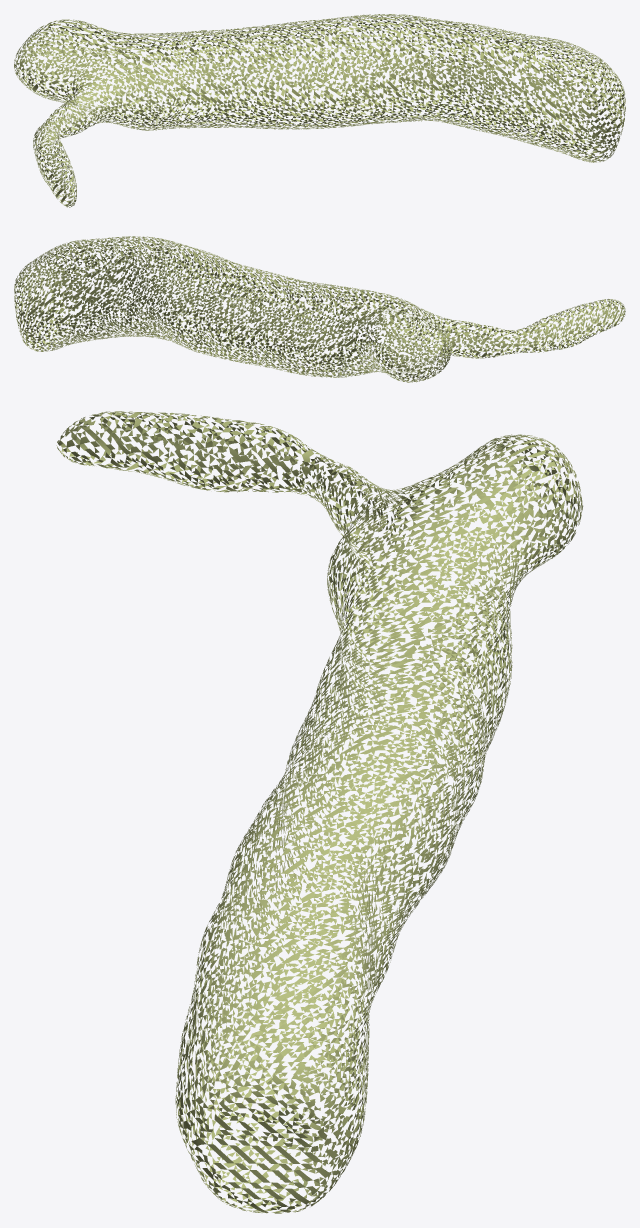
The model's file is morph_010.glb.
3 renders of one model, top to bottom at view 1: azimuth 30°, elevation 25°; view 2: azimuth 150°, elevation 25°; view 3: azimuth 270°, elevation 25°, orthographic. The views are drawn at different scales.
Bounding box in the file's own units: 131 × 40.4 × 54.04.
